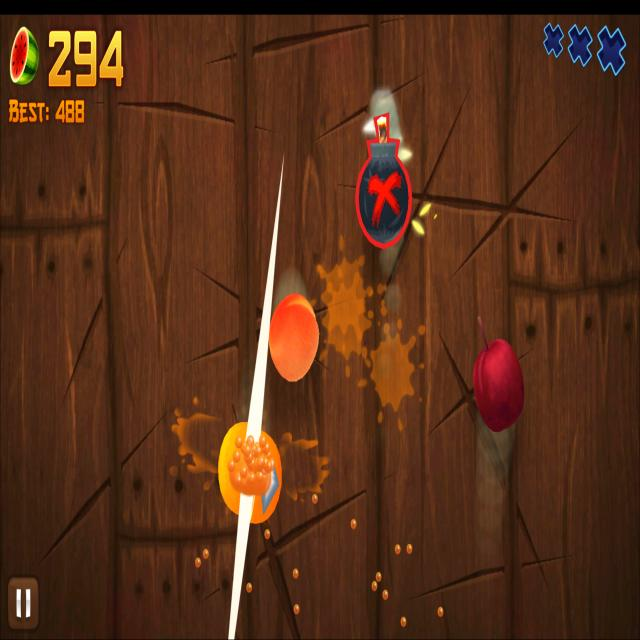bomb: (353, 113, 416, 251)
fruit: (218, 420, 282, 524), (472, 336, 526, 435), (268, 292, 321, 382)
